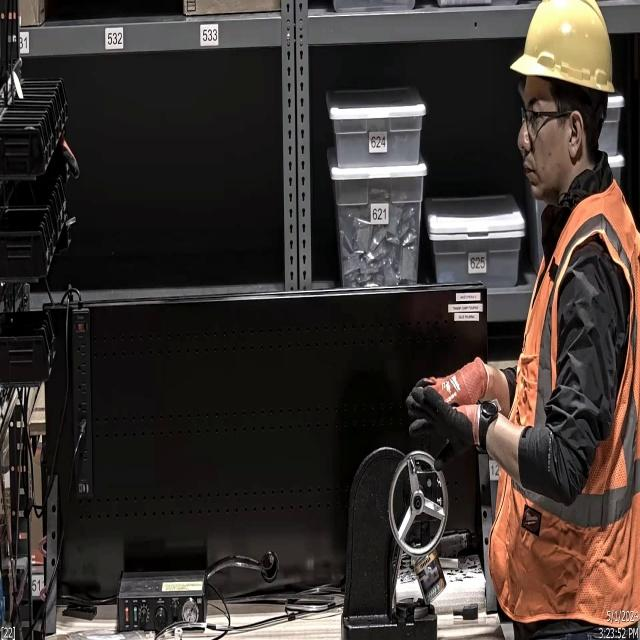gloves: (408, 393, 486, 465)
